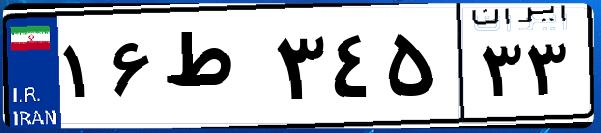1: (57, 26, 110, 100)
3: (270, 28, 330, 110), (475, 38, 525, 113), (525, 38, 570, 115)
4: (330, 28, 385, 110)
5: (385, 28, 445, 110)
6: (110, 28, 158, 98)
ط: (158, 20, 270, 120)
